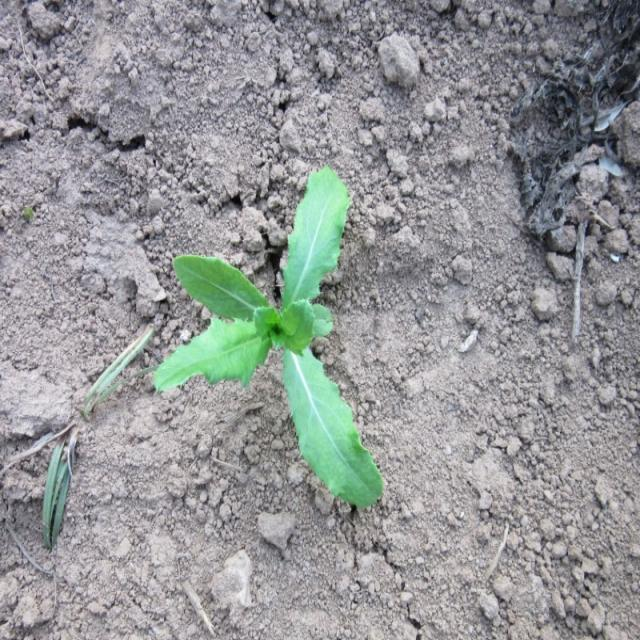cs: (154, 164, 385, 511)
